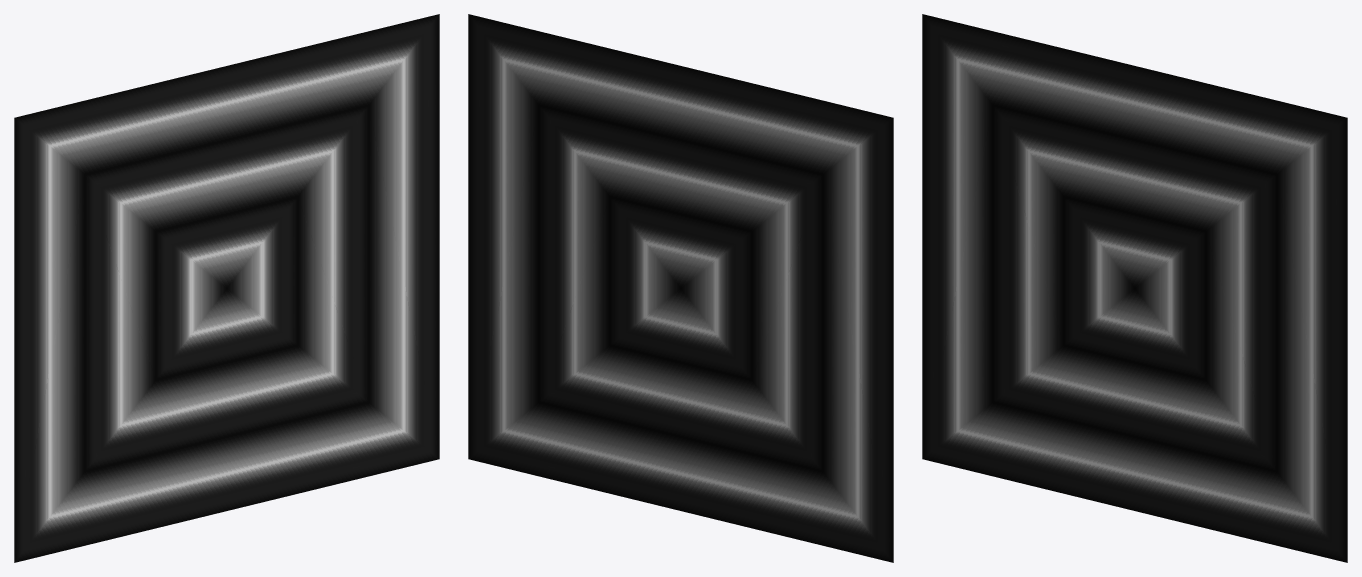
File: eff_Quad01.fbx
The picture shows the model from 3 angles, left to right: view 1: azimuth 30°, elevation 25°; view 2: azimuth 150°, elevation 25°; view 3: azimuth 330°, elevation 25°; orthographic projection.
Parts seen in each view (by area): view 1: eff_Quad01_msh; view 2: eff_Quad01_msh; view 3: eff_Quad01_msh.
Part boxes in pixels (box(x1,y1,x2,y2)): eff_Quad01_msh: box(14, 14, 439, 562); eff_Quad01_msh: box(468, 14, 893, 562); eff_Quad01_msh: box(922, 14, 1347, 562).
Bounding box in the file's own units: 1 × 1 × 0.
